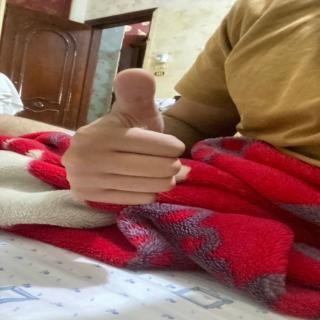ALIF: (61, 67, 215, 210)
